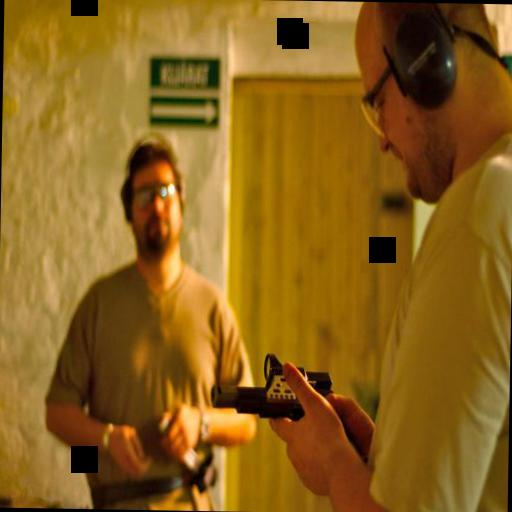Handgun: (207, 348, 335, 428)
